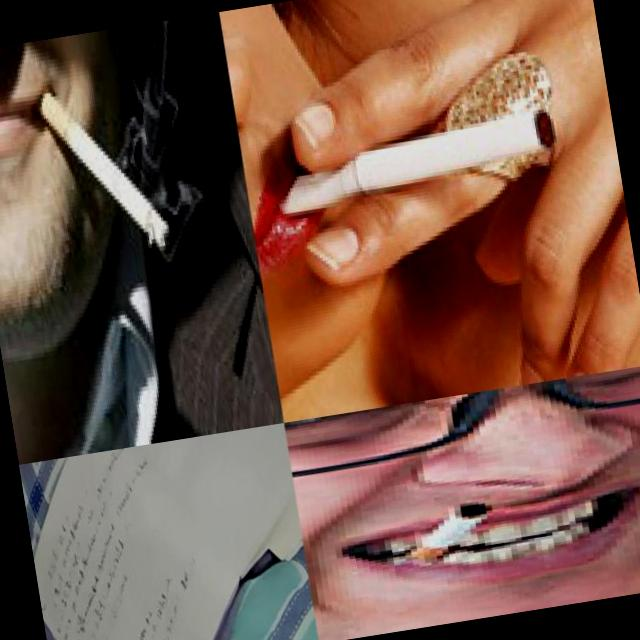smoke: (268, 110, 562, 218), (26, 64, 173, 270), (380, 493, 504, 562)
